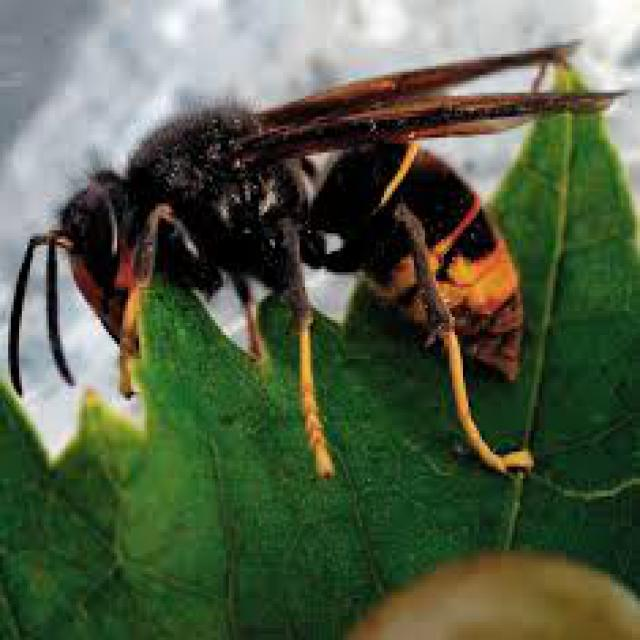Vespa Velutina: (0, 26, 635, 498)
